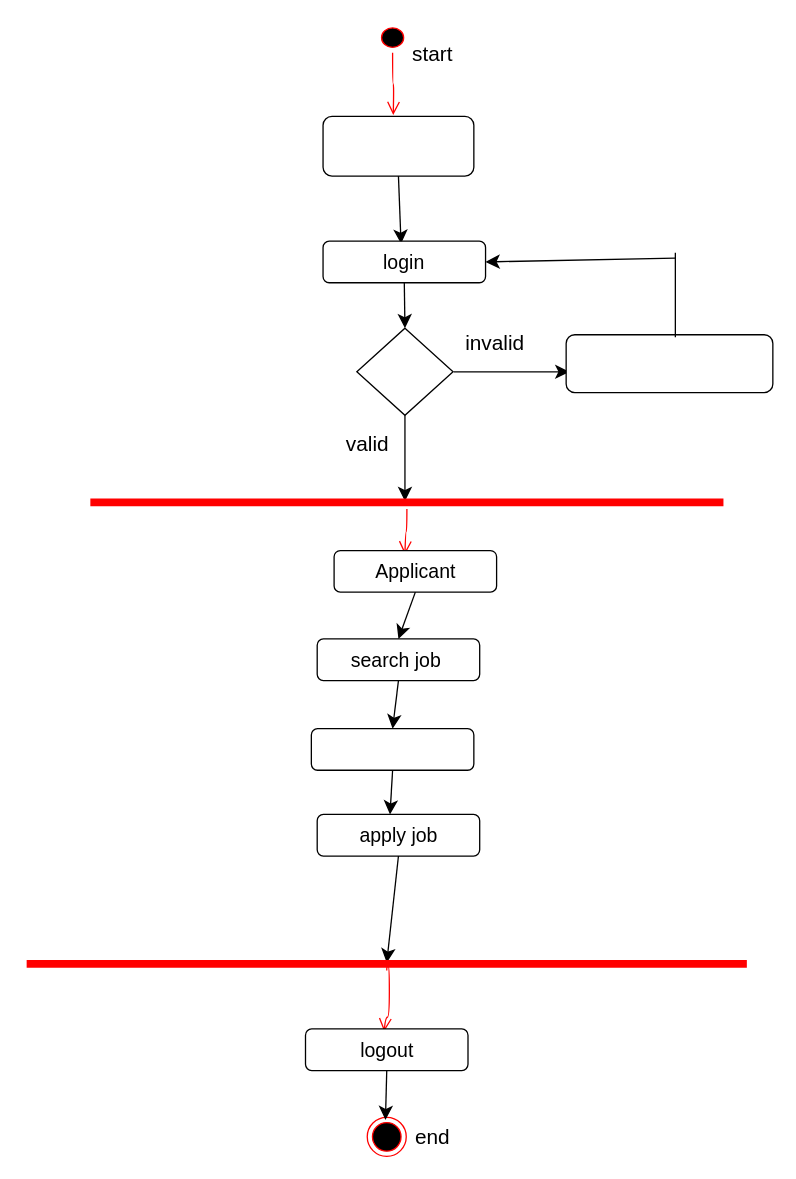
The diagram is 796 pixels wide and 1179 high, and some of its shapes have lost their labels. Here are the shapes that lost their labels. From the top down, the box of each, then its label:
(322, 115, 474, 176): Applicant is registered
(565, 333, 773, 393): Re-entered username and password
(310, 727, 474, 770): view job
